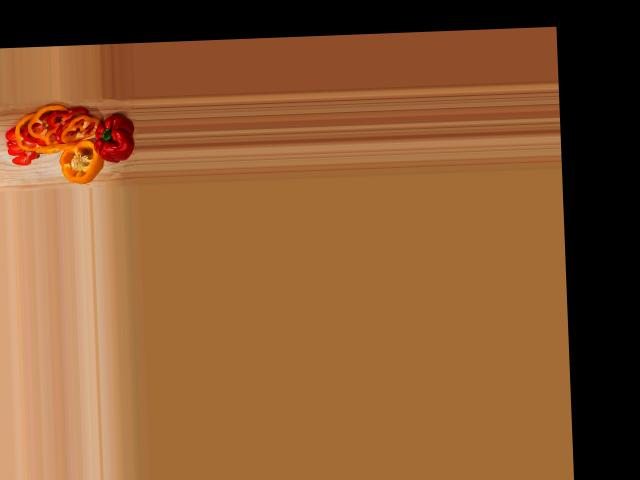bell_pepper: (56, 140, 102, 186)
